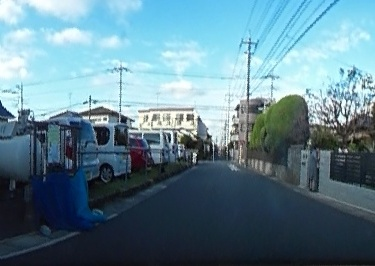person: (305, 144, 319, 188)
